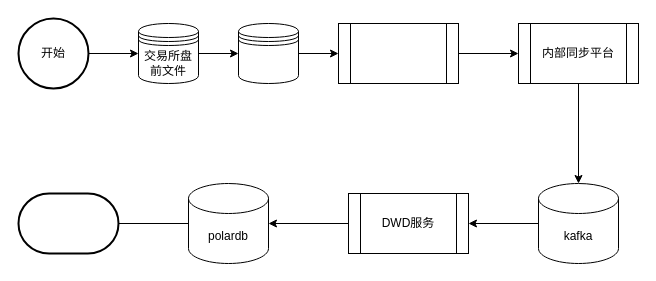
This 656x281 diagram has some shape labels left out. The centre of each missing label's shape, as x and y in pixels:
"nginx静态文件" goes at point 268,53.
"ODS解析服务" goes at point 398,53.
"结束" goes at point 68,223.
